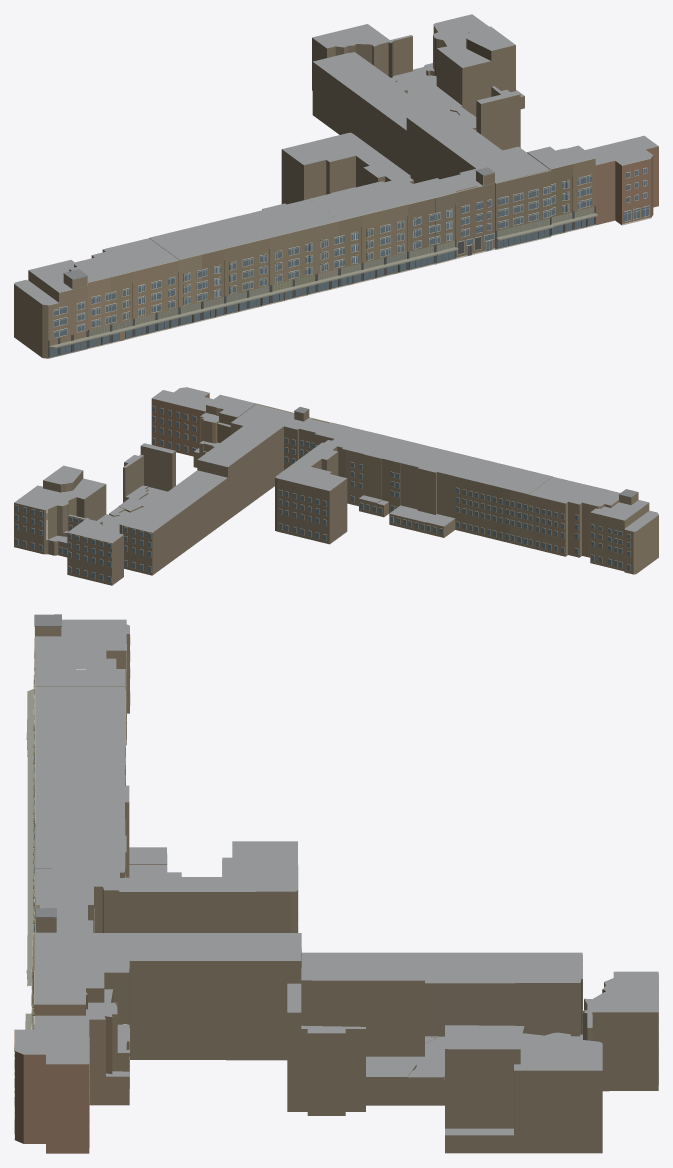
The model's file is chunk-face-evertsen-91-135.glb.
The picture shows the model from 3 angles, top to bottom: view 1: azimuth 30°, elevation 25°; view 2: azimuth 150°, elevation 25°; view 3: azimuth 270°, elevation 25°; orthographic projection. The views are drawn at different scales.
Visible parts, largest first — view 1: face-evertsen-91-135; view 2: face-evertsen-91-135; view 3: face-evertsen-91-135.
Boxes of the visible parts, x1,y1,x2,y2 form: face-evertsen-91-135: (14, 14, 658, 358); face-evertsen-91-135: (14, 387, 658, 585); face-evertsen-91-135: (14, 614, 658, 1153).
Size of the model in its own units: 162 by 19.3 by 98.24.
